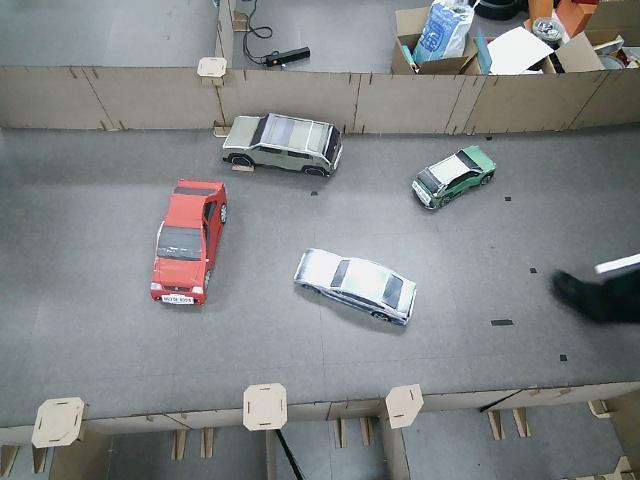car: (151, 179, 226, 308), (295, 249, 418, 326), (221, 112, 345, 177), (413, 145, 497, 210)
